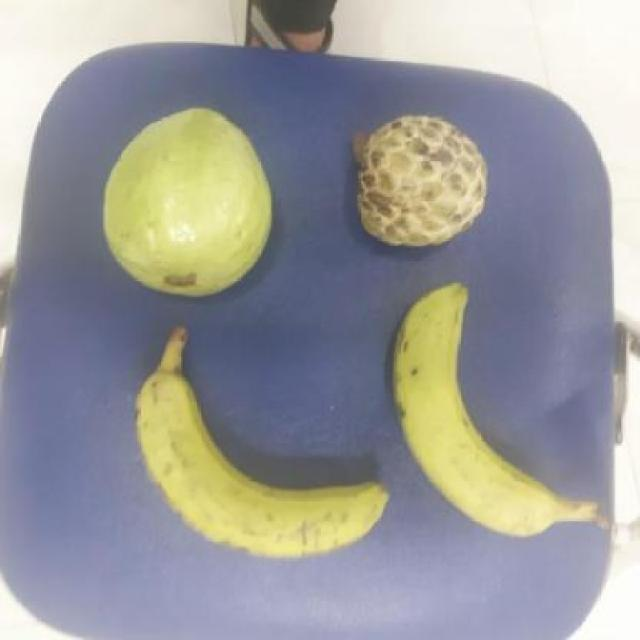banana: (123, 370, 383, 559), (386, 284, 563, 541)
guava: (93, 111, 270, 297)
sugar apple: (348, 116, 491, 247)
